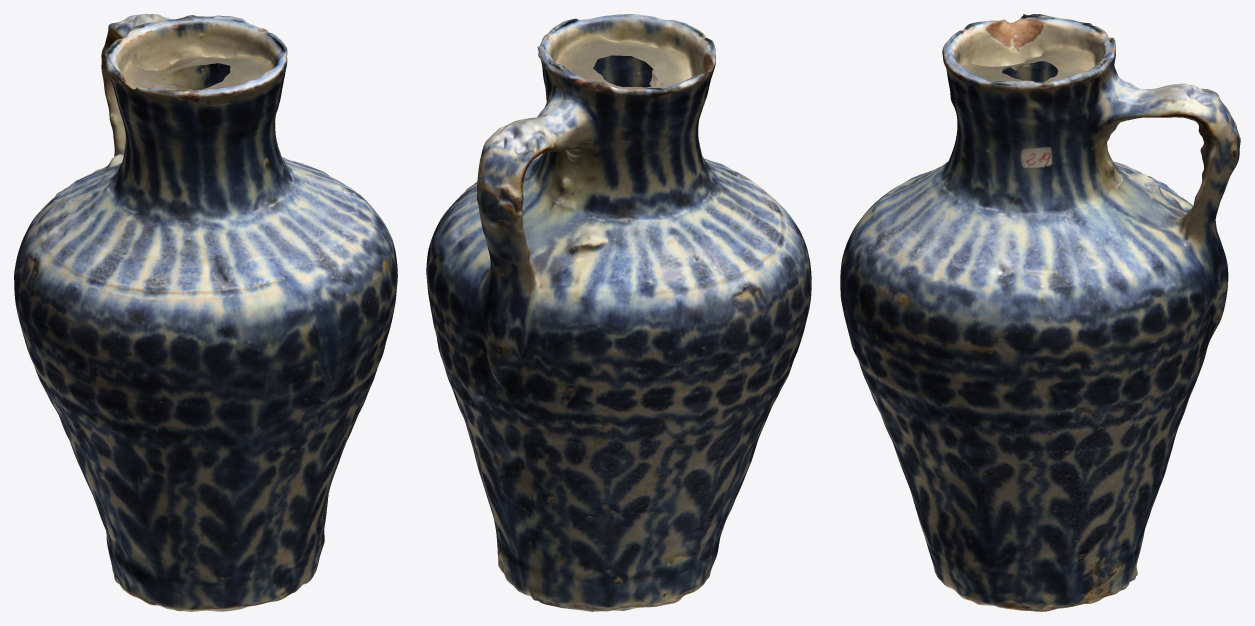
The model's file is vase_31139a065546.glb.
3 renders of one model, left to right at view 1: azimuth 30°, elevation 25°; view 2: azimuth 150°, elevation 25°; view 3: azimuth 270°, elevation 25°, orthographic.
Visible parts, largest first — view 1: Object_2, Object_3; view 2: Object_2, Object_3; view 3: Object_2, Object_3.
Boxes of the visible parts, bbox=[...] form: Object_2: bbox=[14, 14, 397, 611]; Object_3: bbox=[14, 147, 397, 611]; Object_2: bbox=[437, 14, 811, 611]; Object_3: bbox=[426, 153, 811, 611]; Object_2: bbox=[840, 14, 1240, 610]; Object_3: bbox=[840, 153, 1227, 611].
Bounding box in the file's own units: 0.0853 × 0.1318 × 0.0908.
Materials: 1 (1 with a texture image).
